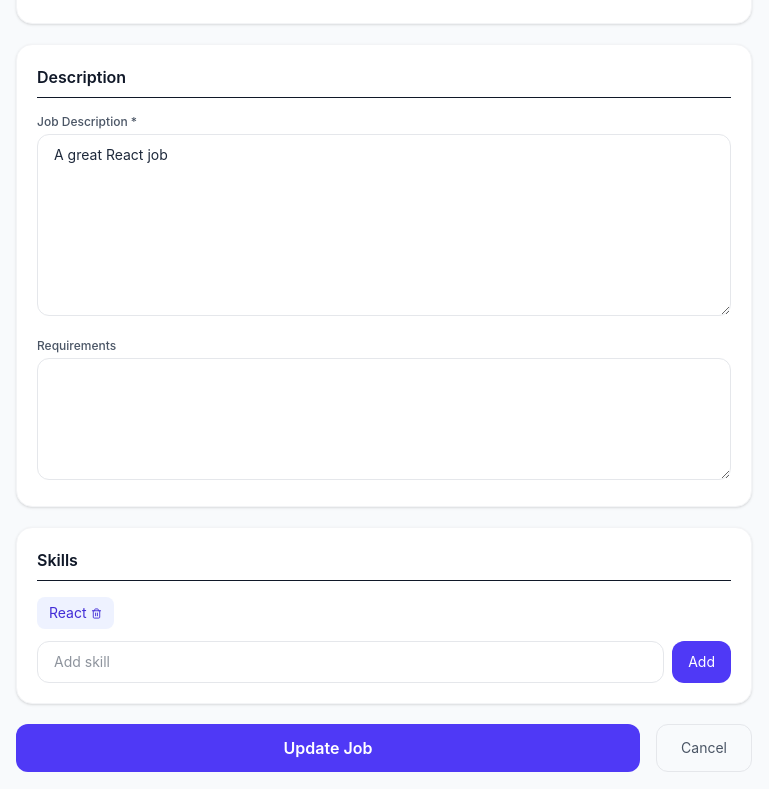
Test: EditJob › adds a new skill via input and Add button
(page scrolled)
Expected: the heading "Skills" is shown, [37,548,731,581]
In the field with placeholder "Add skill": (351, 662) [37,641,664,683], type "TypeScript"
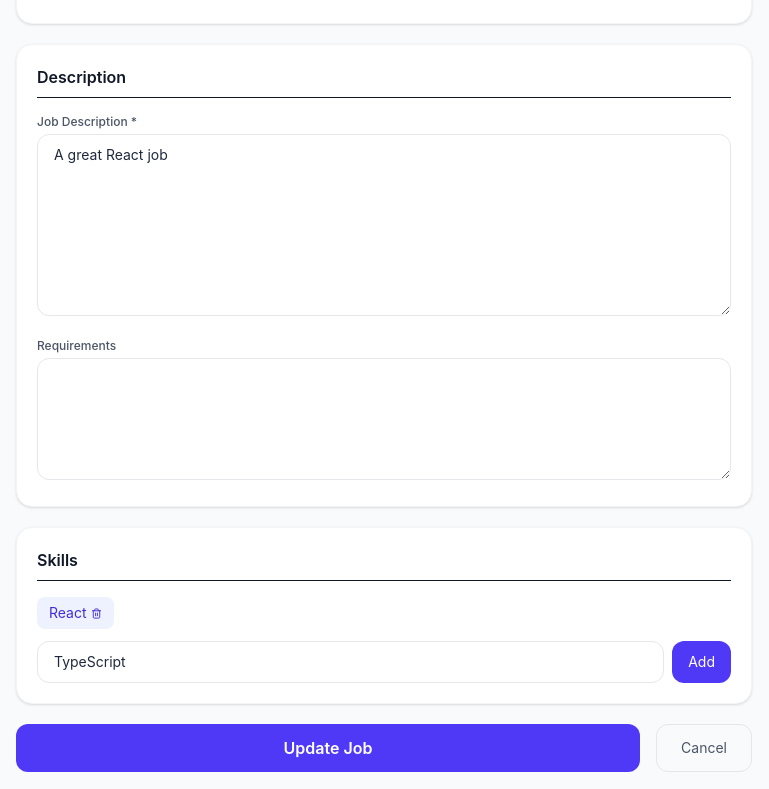
Click the button "Add": (702, 662) [672,641,731,683]
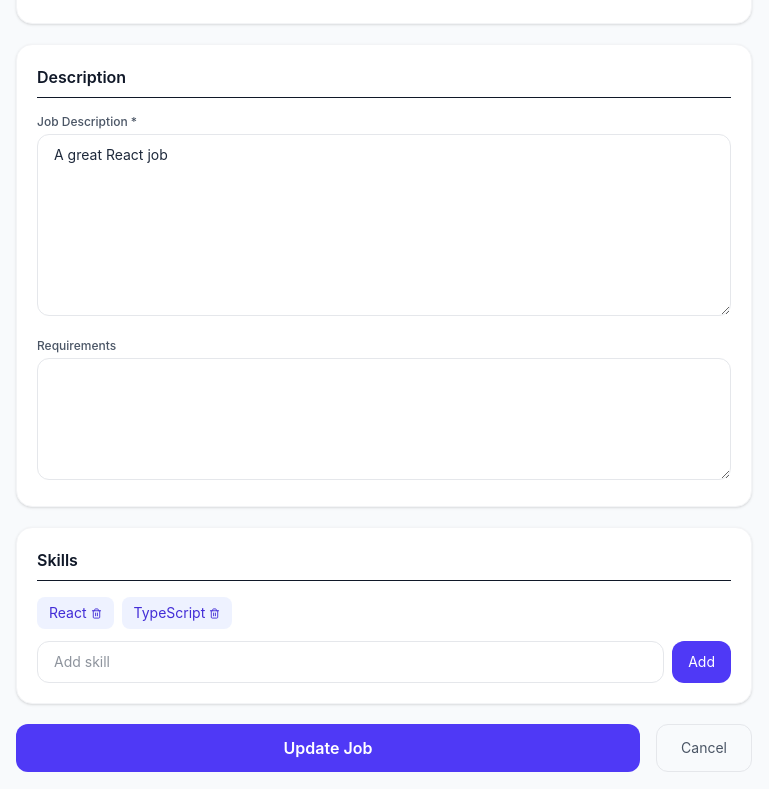
Expected: the text "TypeScript" is shown, [122,597,232,629]
